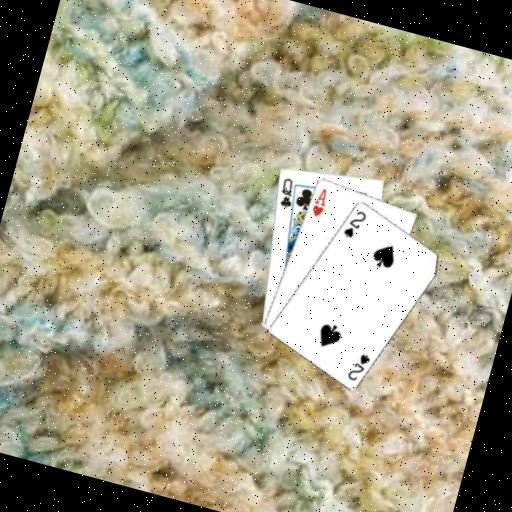2S: (339, 204, 369, 242), (343, 347, 372, 384)
AH: (307, 183, 331, 219)
QC: (273, 173, 299, 210)
